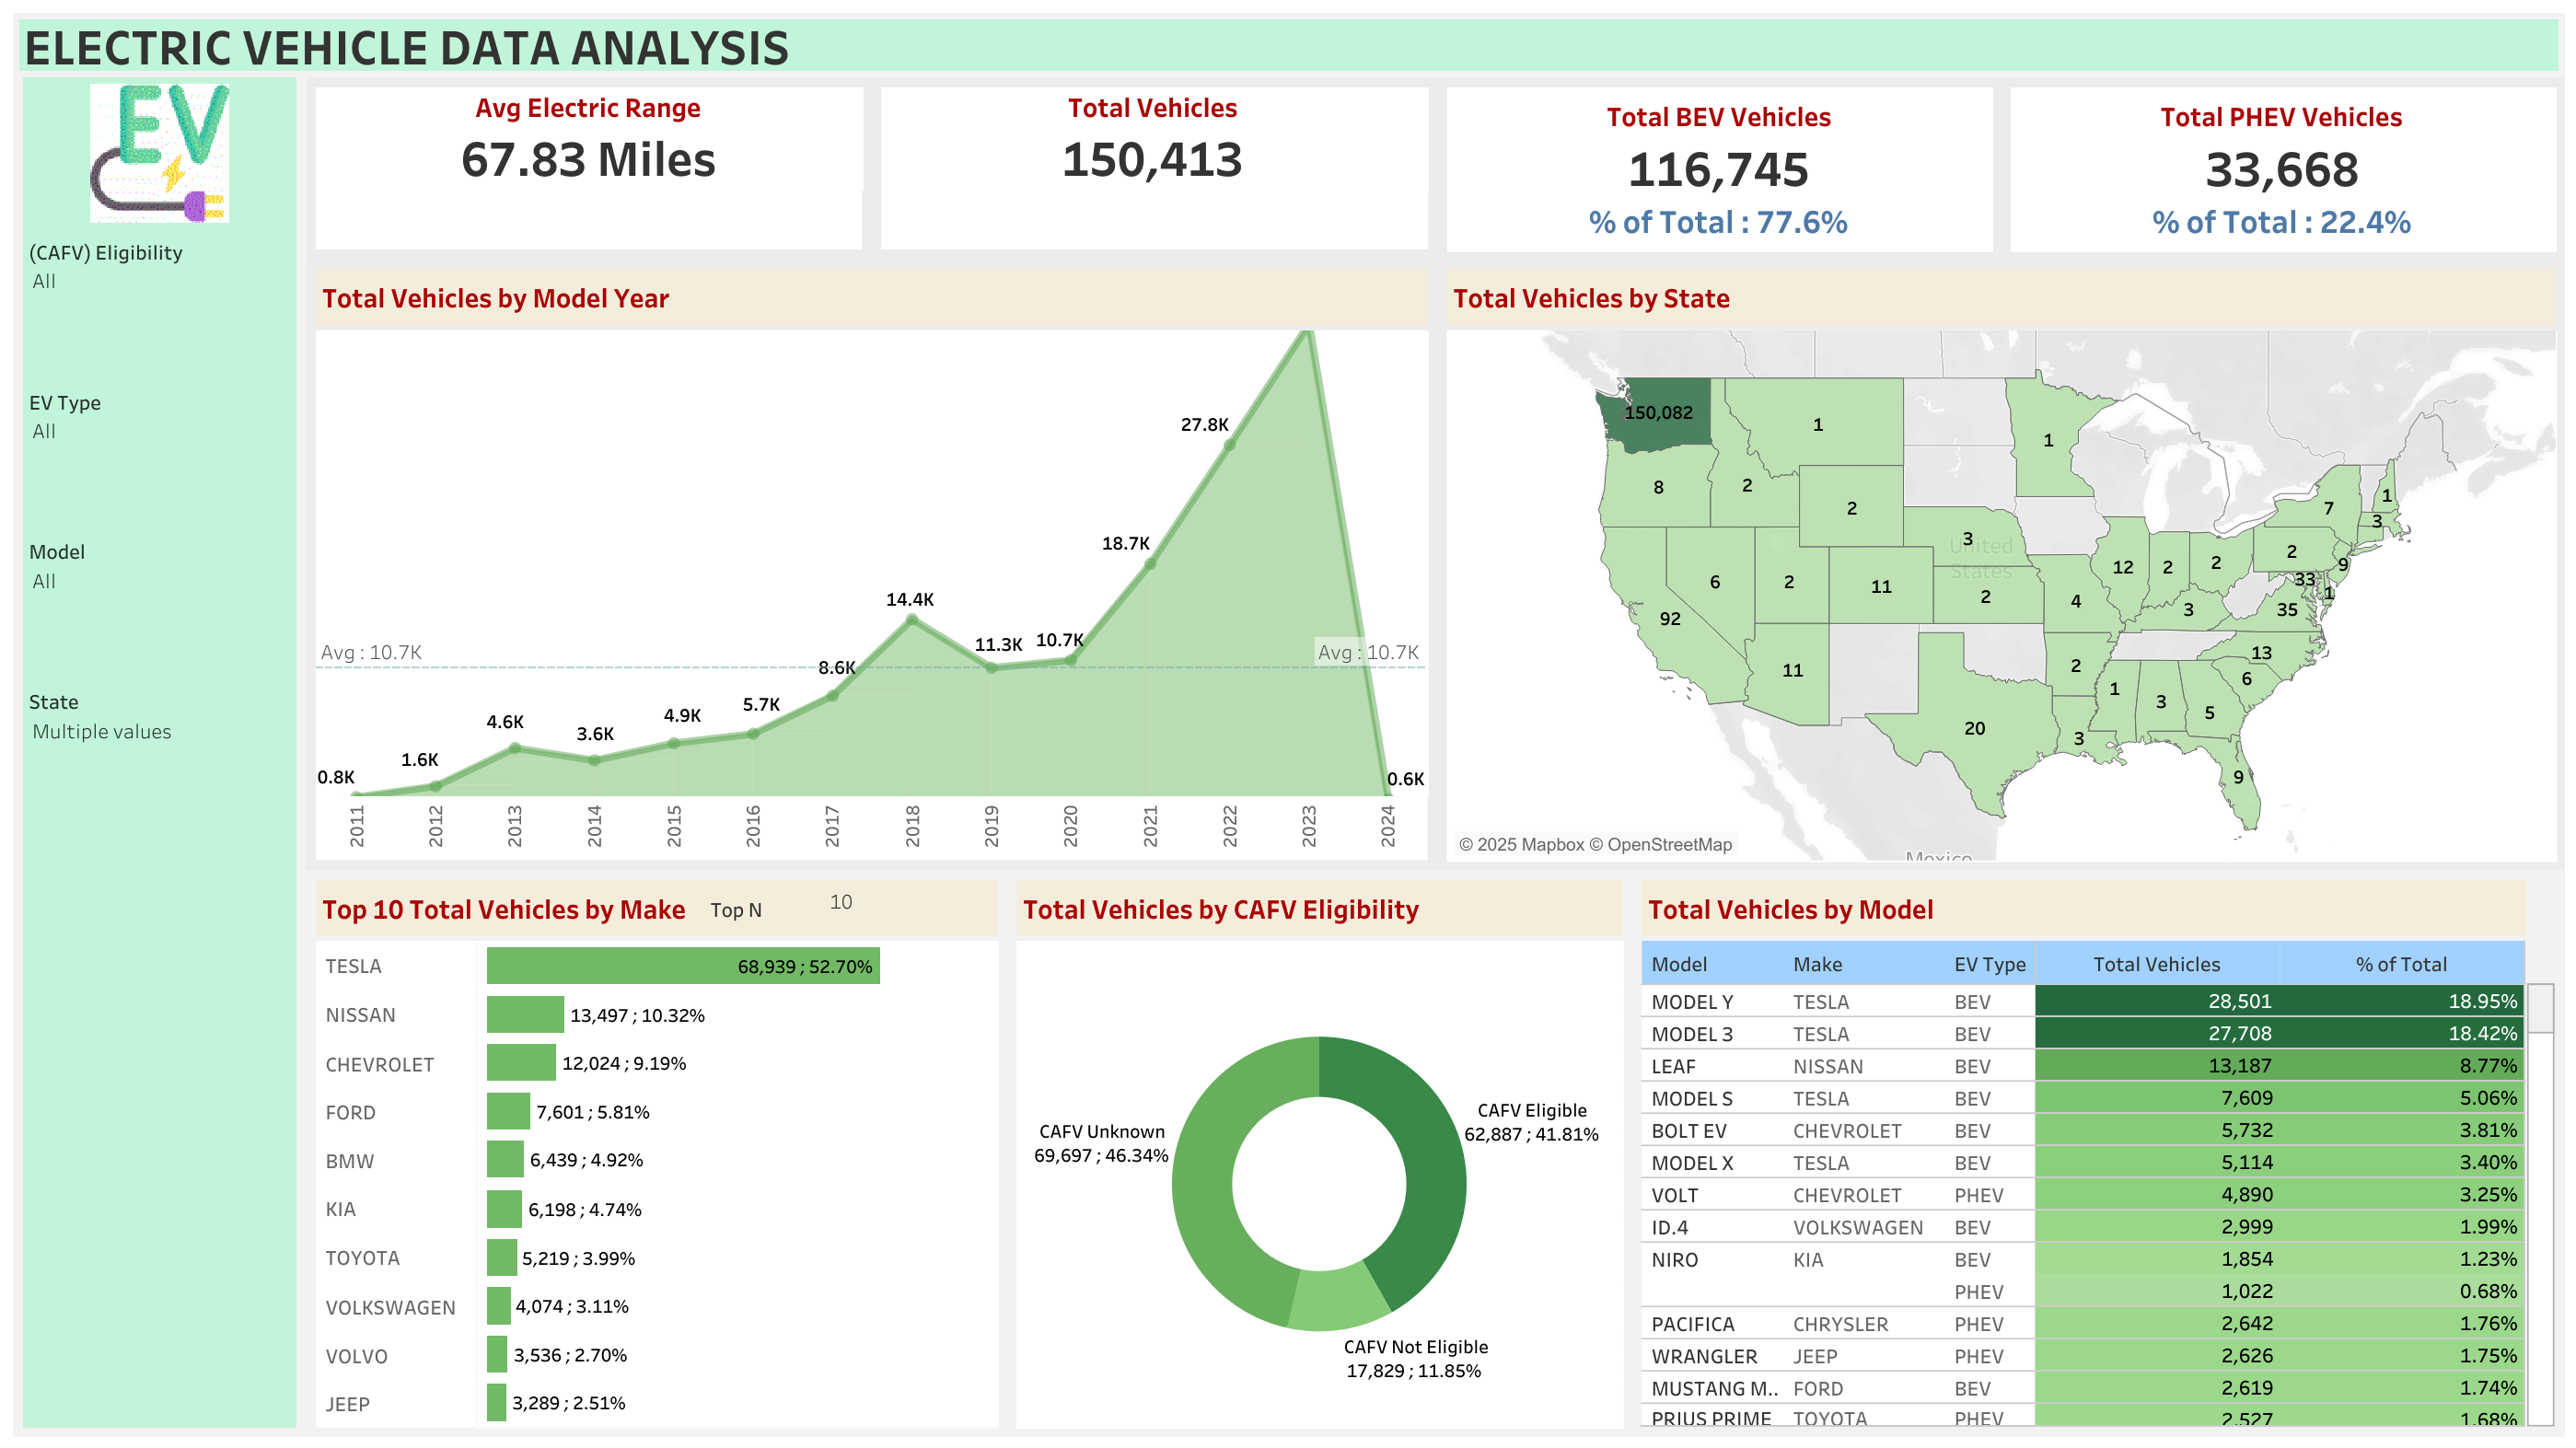

This screenshot's page, from the dashboard's own definition file:
{"tool":"tableau","page":{"name":"Dashboard 1","canvas":[1600,900],"ordinal":0},"visuals":[{"type":"title","box":[8,8,1584,40]},{"type":"image","param":"Image/EV.PNG","box":[14,48,170,94]},{"type":"worksheet","title":"Avg Electric Range ","mark":"Automatic","box":[190,48,351,113]},{"type":"worksheet","title":"Total Vehicles","mark":"Automatic","box":[541,48,351,113]},{"type":"worksheet","title":"Total BEV Vehicles","mark":"Automatic","box":[892,48,350,113]},{"type":"worksheet","title":"Total PHEV Vehicles ","mark":"Automatic","box":[1242,48,350,113]},{"type":"filter","title":"Top 10 Total Vehicles by Make","param":"[federated.0p4dnx415xy1qa168bzkj1q76to1].[none:Clean Alternative Fuel Vehicle (C","box":[14,142,170,93]},{"type":"worksheet","title":"Total Vehicles by Model Year","mark":"Area","rows":["Calculation_1071012322611843072","Calculation_1071012322611843072"],"cols":["Model Year"],"box":[190,161,702,379]},{"type":"worksheet","title":"Total Vehicles by State","mark":"Multipolygon","box":[892,161,700,379]},{"type":"filter","title":"Total Vehicles by Model Year","param":"[federated.0p4dnx415xy1qa168bzkj1q76to1].[none:Electric Vehicle Type:nk]","box":[14,235,170,93]},{"type":"filter","title":"Total Vehicles by Model Year","param":"[federated.0p4dnx415xy1qa168bzkj1q76to1].[none:Model:nk]","box":[14,328,170,93]},{"type":"filter","title":"Total Vehicles by Model Year","param":"[federated.0p4dnx415xy1qa168bzkj1q76to1].[none:State:nk]","box":[14,421,170,93]},{"type":"blank","box":[14,514,170,93]},{"type":"worksheet","title":"Top 10 Total Vehicles by Make","mark":"Automatic","rows":["Make"],"cols":["Calculation_1071012322611843072"],"box":[190,540,435,352]},{"type":"worksheet","title":"Total Vehicles by CAFV Eligibility","mark":"Pie","rows":["Calculation_1071012322634919943","Calculation_1071012322634919943"],"box":[625,540,388,352]},{"type":"worksheet","title":"Total Vehicles by Model","mark":"Square","rows":["Model","Make","Electric Vehicle Type"],"box":[1013,540,579,352]},{"type":"parameter","param":"[Parameters].[Parameter 1]","box":[441,550,160,28]},{"type":"blank","box":[14,607,170,93]},{"type":"blank","box":[14,700,170,93]},{"type":"blank","box":[14,793,170,93]}]}

Visuals, with their boxes in screenshot pixels (x1, y1, x2, y2), scaled from the page's 1600x900 canvas onto the 2576x1448 screenshot:
title: BBox(13, 13, 2563, 77)
image: BBox(22, 77, 296, 228)
"Avg Electric Range " worksheet: BBox(306, 77, 871, 259)
"Total Vehicles" worksheet: BBox(871, 77, 1436, 259)
"Total BEV Vehicles" worksheet: BBox(1436, 77, 2000, 259)
"Total PHEV Vehicles " worksheet: BBox(2000, 77, 2563, 259)
"Top 10 Total Vehicles by Make" filter: BBox(22, 228, 296, 378)
"Total Vehicles by Model Year" worksheet (Area marks): BBox(306, 259, 1436, 869)
"Total Vehicles by State" worksheet (Multipolygon marks): BBox(1436, 259, 2563, 869)
"Total Vehicles by Model Year" filter: BBox(22, 378, 296, 527)
"Total Vehicles by Model Year" filter: BBox(22, 527, 296, 678)
"Total Vehicles by Model Year" filter: BBox(22, 678, 296, 827)
blank: BBox(22, 827, 296, 977)
"Top 10 Total Vehicles by Make" worksheet: BBox(306, 869, 1006, 1435)
"Total Vehicles by CAFV Eligibility" worksheet (Pie marks): BBox(1006, 869, 1630, 1435)
"Total Vehicles by Model" worksheet (Square marks): BBox(1630, 869, 2563, 1435)
parameter: BBox(710, 885, 968, 930)
blank: BBox(22, 977, 296, 1126)
blank: BBox(22, 1126, 296, 1276)
blank: BBox(22, 1276, 296, 1426)
